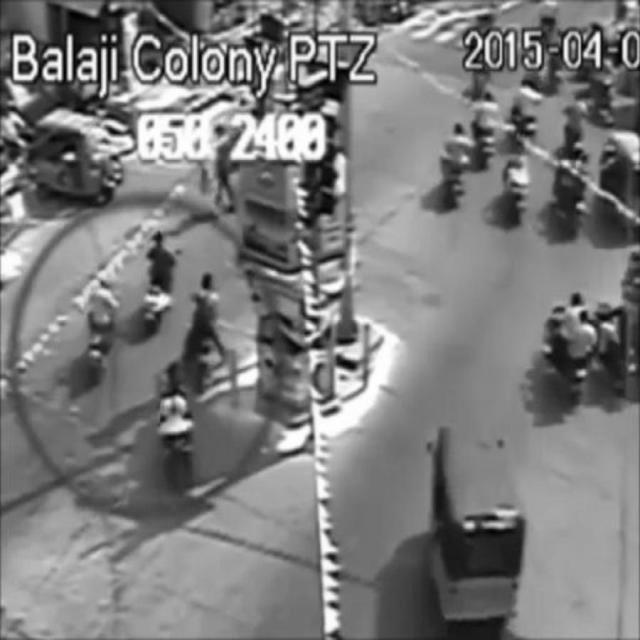vehicle: (432, 419, 523, 619), (42, 105, 113, 198), (546, 294, 596, 404), (158, 357, 199, 488), (186, 272, 223, 392), (462, 63, 502, 165), (77, 269, 115, 375), (550, 138, 588, 239), (144, 223, 178, 325), (442, 117, 472, 208), (504, 130, 531, 223)
